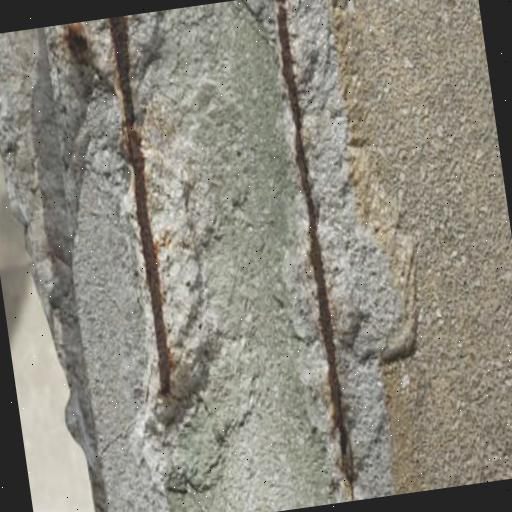spalling: (48, 6, 256, 466), (235, 0, 413, 490)
